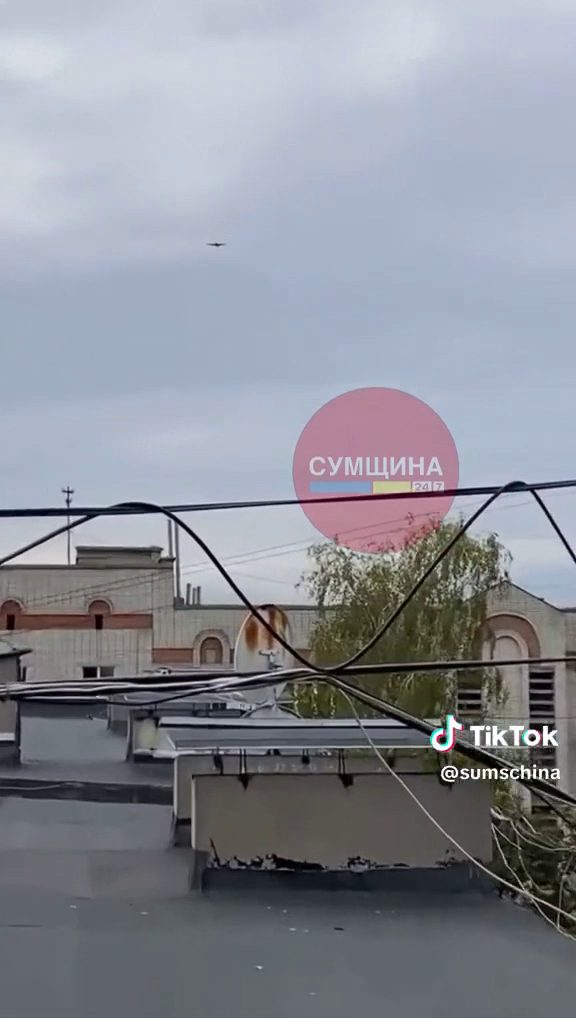shahed: (204, 238, 228, 254)
